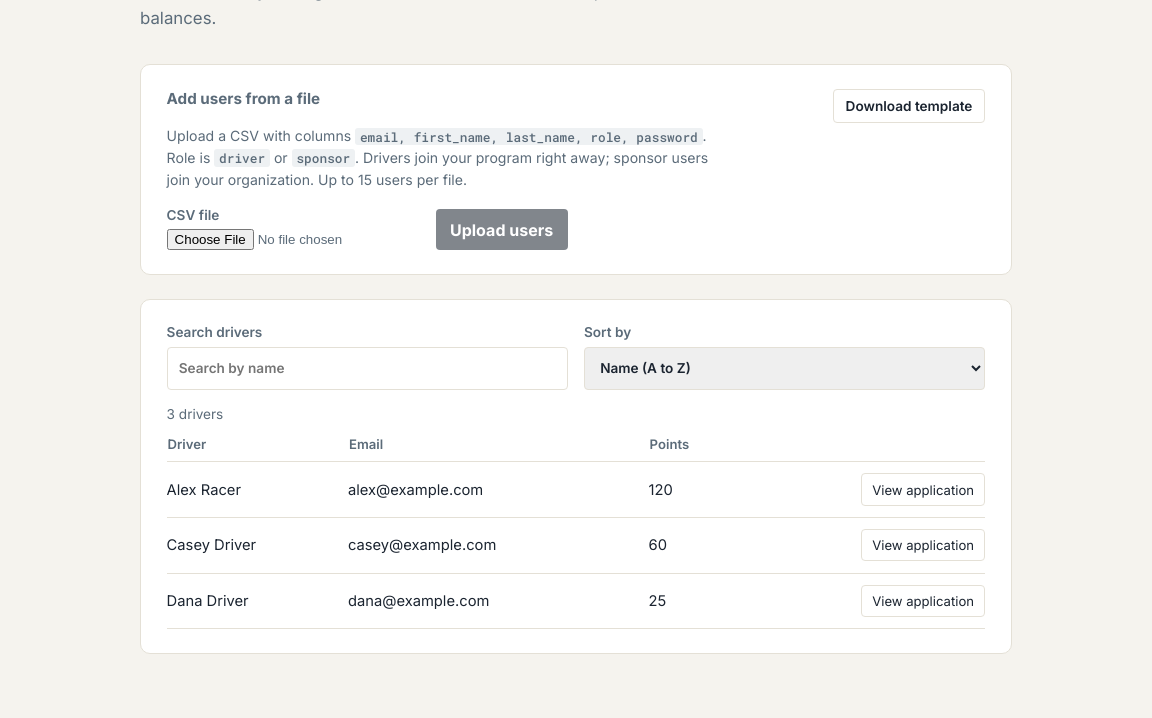
explains when the point changes API returns HTML instead of JSON
(page scrolled)
Click the button "View application" in the row of "Racer" at (923, 490), box [861,473,985,506]
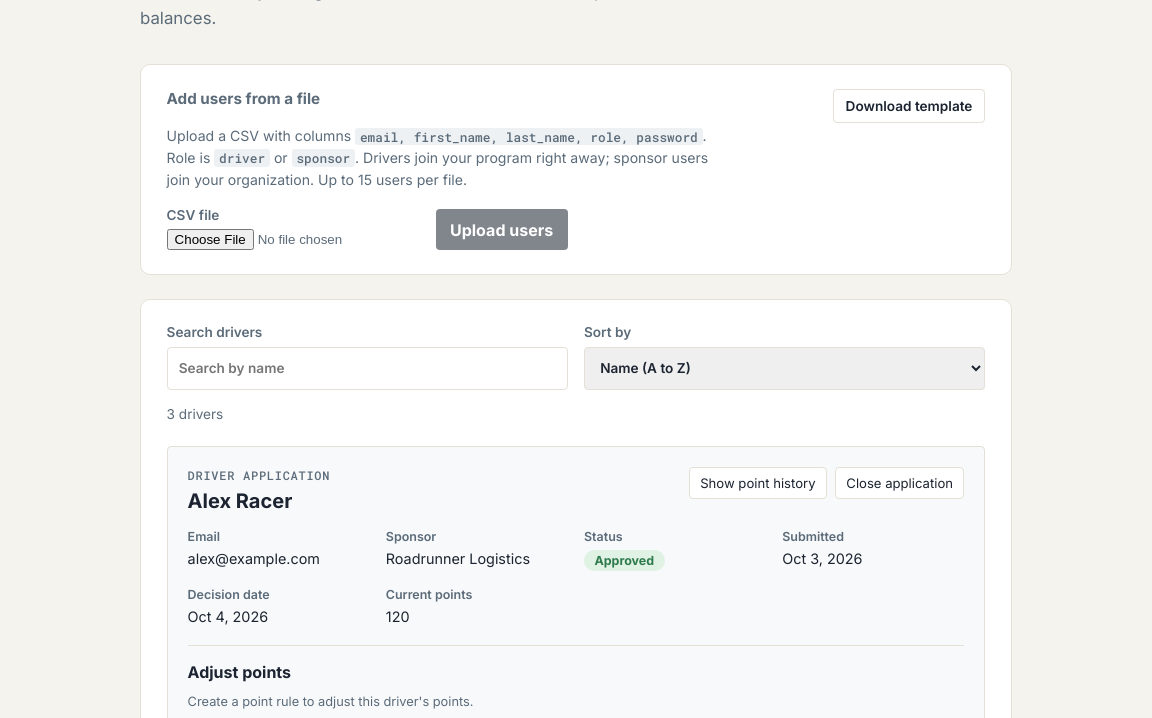
Click the button "Show point history" at (758, 483), box [689,467,827,499]
(page scrolled)
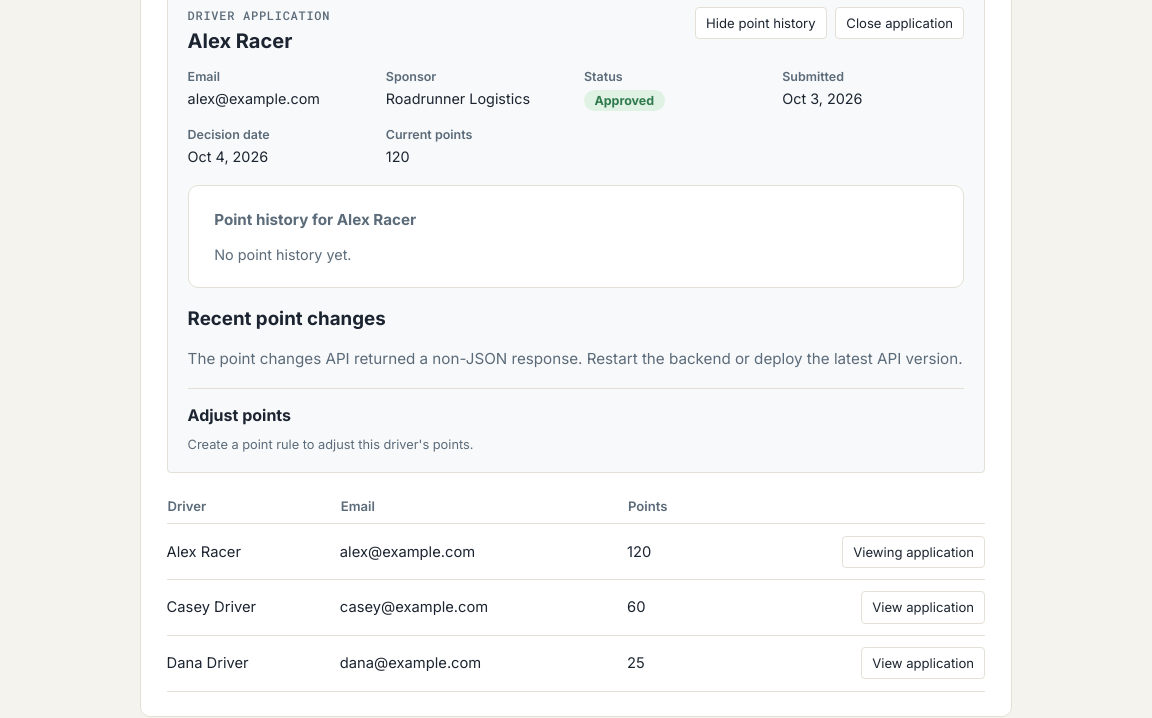
Now the message shows "The point changes API returned a non-JSON response. Restart the backend or deploy the latest API version.", box [188,349,963,368]
